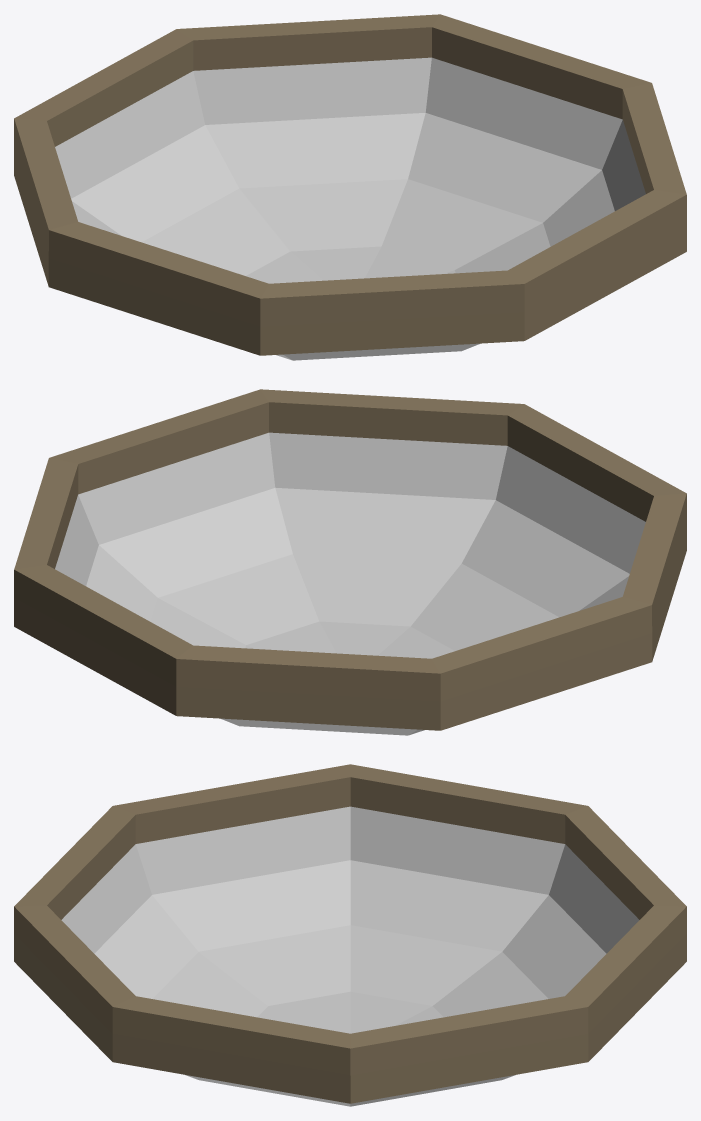
File: ceilingLight.fbx
3 views of the same model, one above another, from view 1: azimuth 30°, elevation 25°; view 2: azimuth 150°, elevation 25°; view 3: azimuth 270°, elevation 25° (orthographic). The views are drawn at different scales.
Visible parts, largest first — view 1: Sphere.002; view 2: Sphere.002; view 3: Sphere.002.
Part boxes in pixels (<box>): Sphere.002: <box>14,14,686,360</box>; Sphere.002: <box>14,389,686,735</box>; Sphere.002: <box>14,764,686,1106</box>.
Size of the model in its own units: 20.47 by 4.83 by 20.47.
